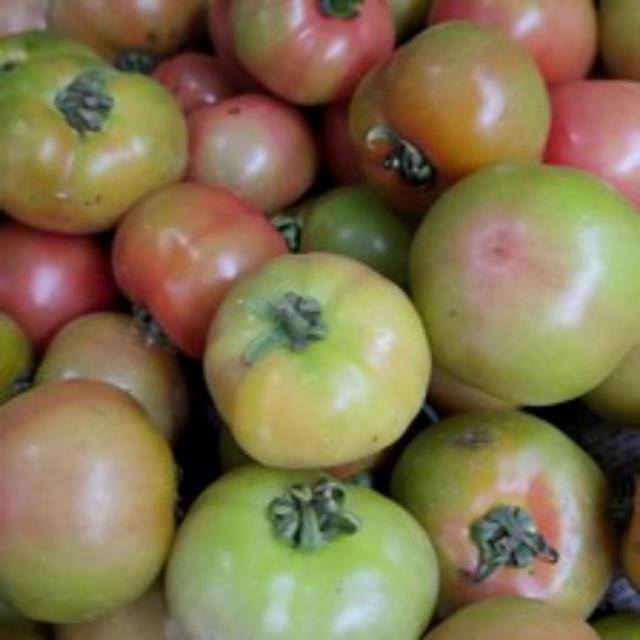tomato: (96, 174, 282, 353)
